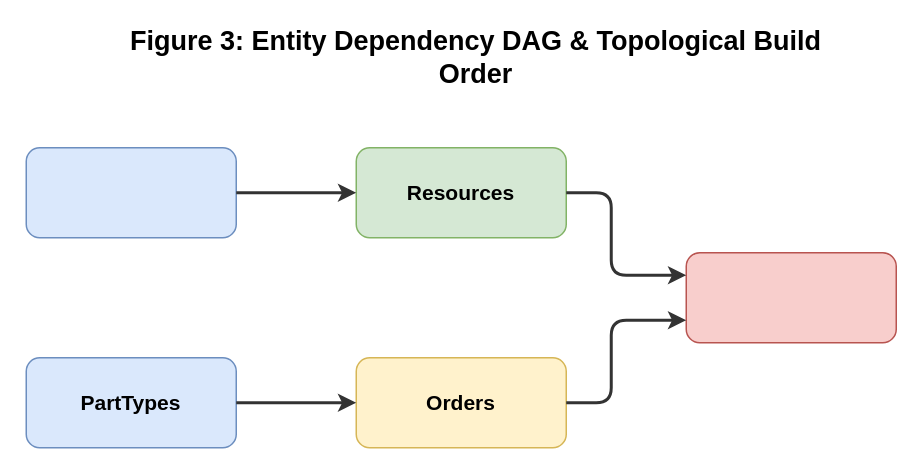
The diagram is 923 pixels wide and 474 high, and some of its shapes have lost their labels. The shapes that lost their labels are listed below. From the top down, each one's box as (x1, y1, x2, y2) in pixels, then its label:
(25, 146, 236, 238): ResourceClasses
(685, 251, 896, 343): Jobs
